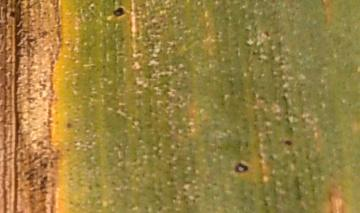tarspot: (233, 161, 250, 175), (111, 7, 125, 17), (283, 139, 294, 148), (65, 122, 73, 130)
